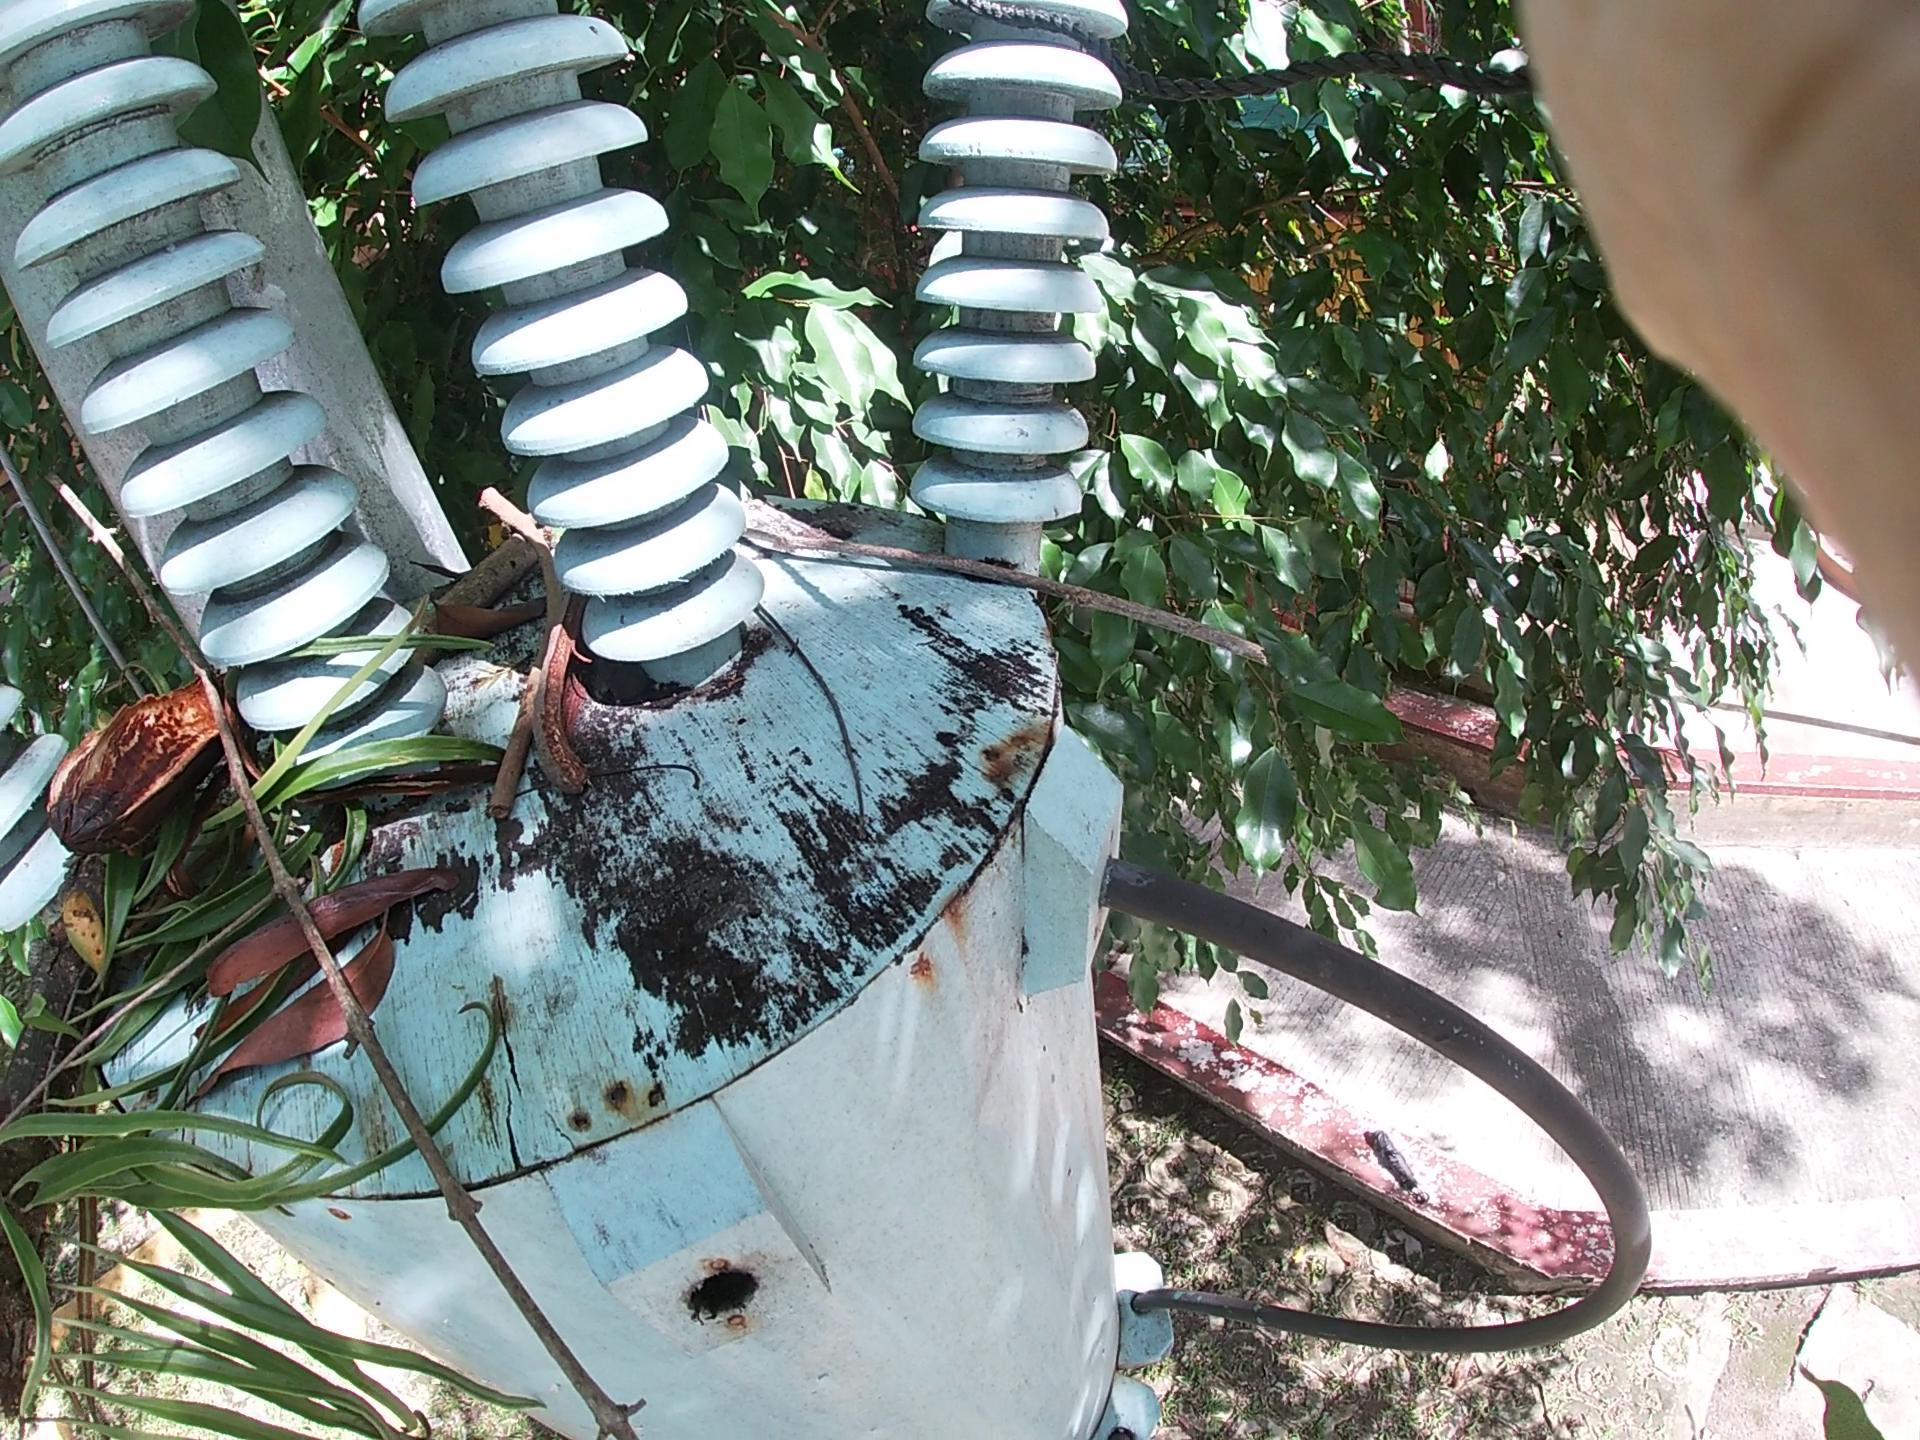branch with leaves: (63, 635, 311, 1314)
leaf: (194, 836, 410, 1050), (408, 529, 523, 678)
mahogany fruit: (505, 520, 677, 864), (74, 593, 230, 873)
tree branch: (739, 486, 1403, 700), (519, 557, 597, 815)
